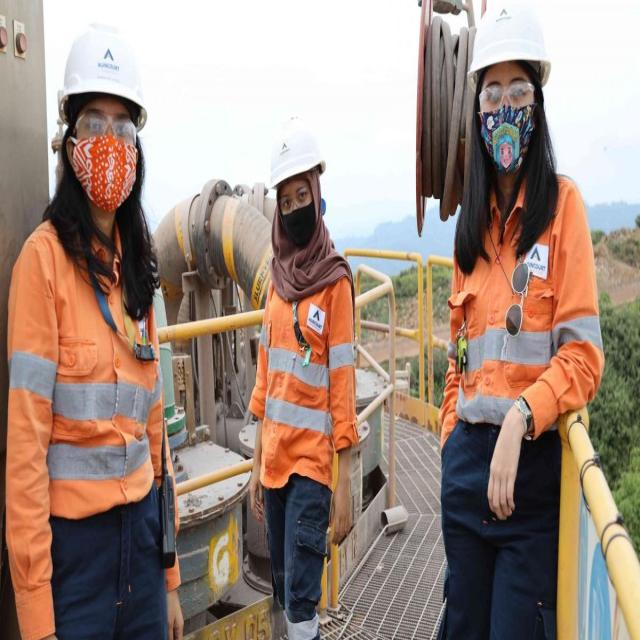glasses: (75, 110, 141, 152), (476, 80, 536, 113), (278, 185, 313, 212)
